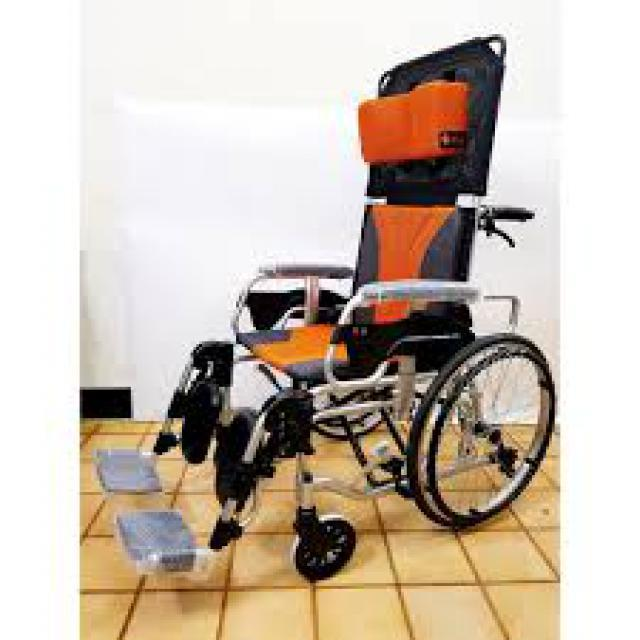wheelchair: (77, 14, 552, 637)
